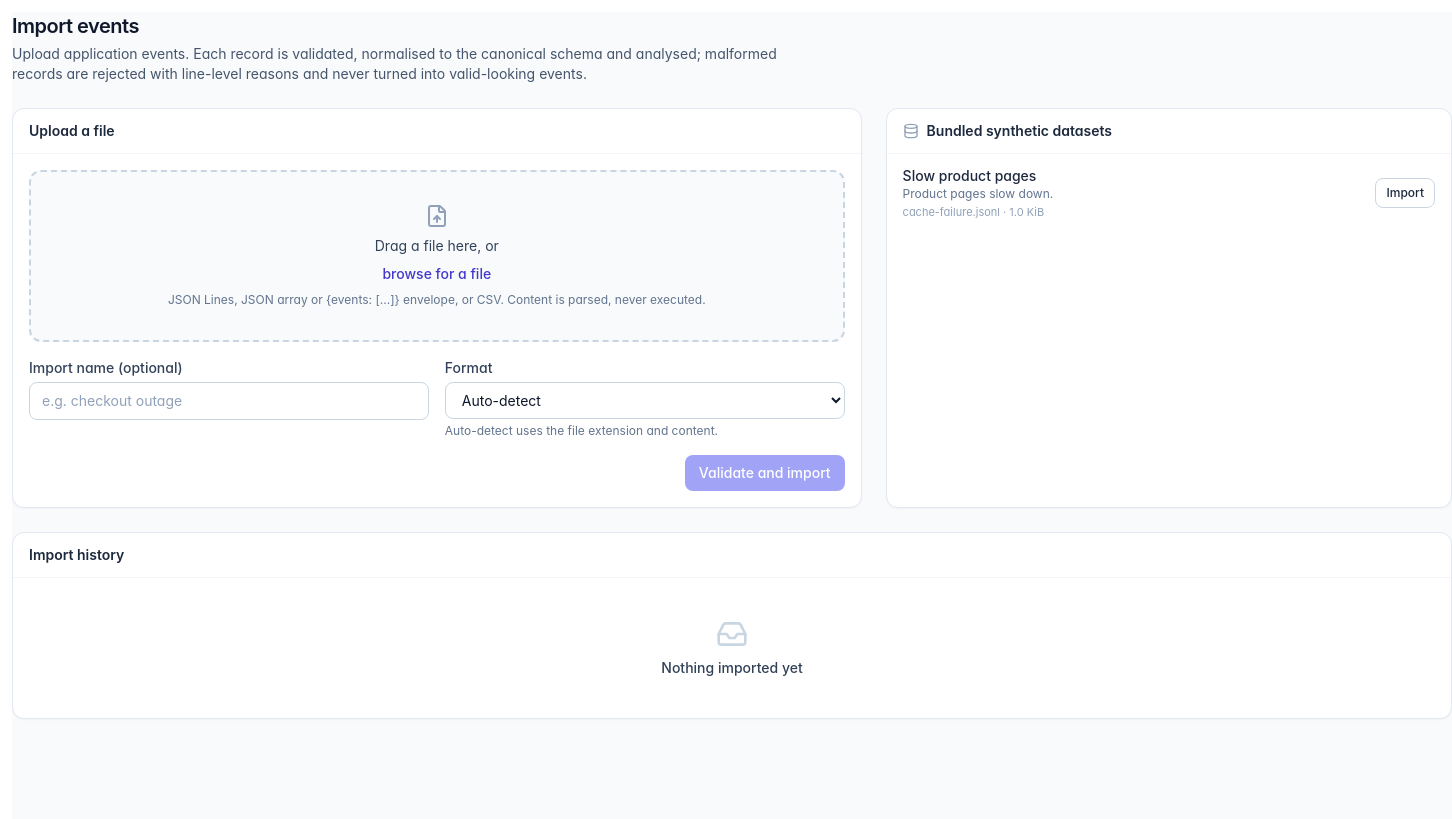
Test: demo datasets can be imported with one click
Click the button with aria-label "Import Slow product pages" at (1405, 193), box top-left (1376, 178), bottom-right (1435, 208)
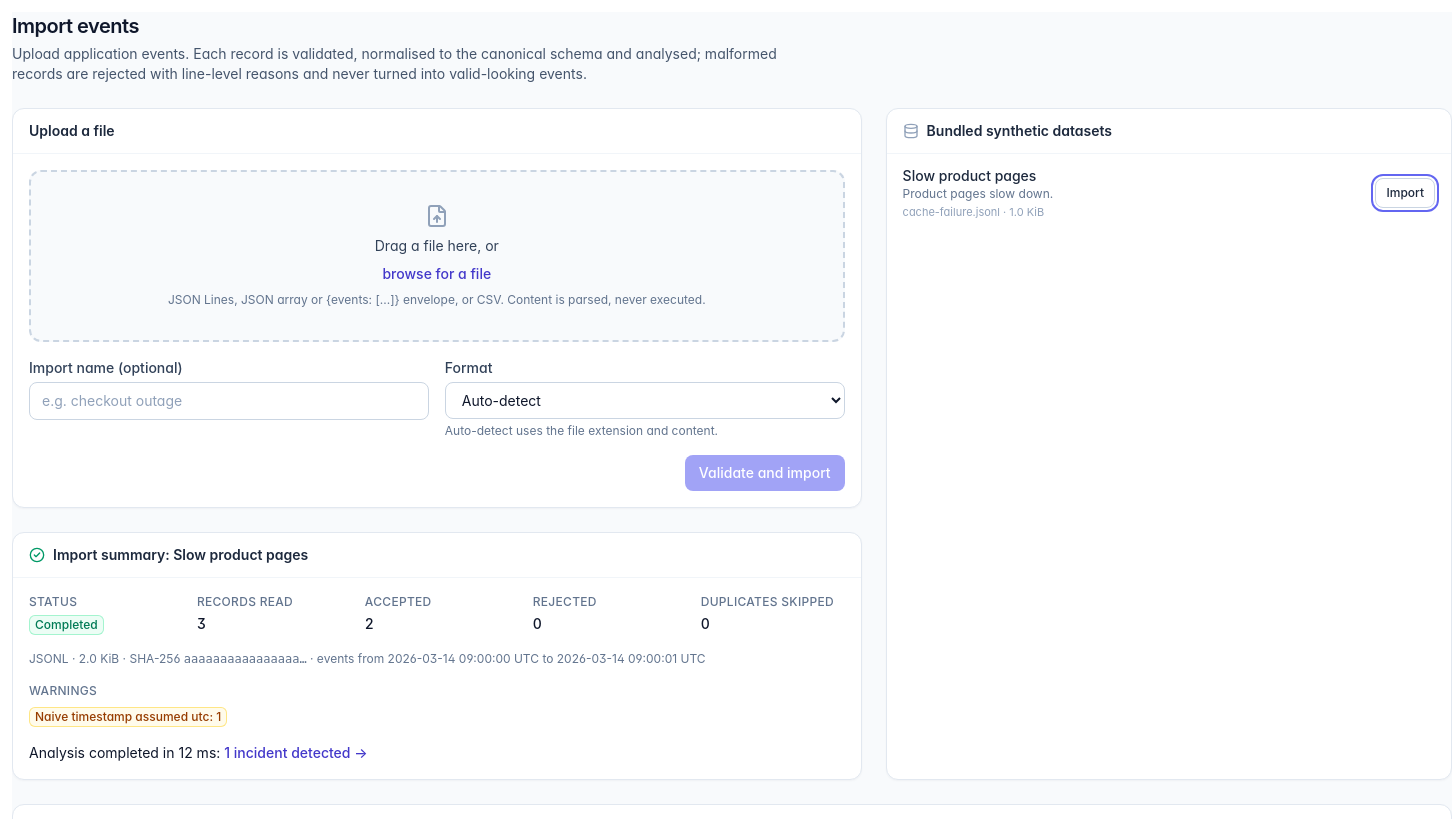
expect the text "Import summary: Slow product pages" is shown: met, box top-left (29, 545), bottom-right (308, 565)
